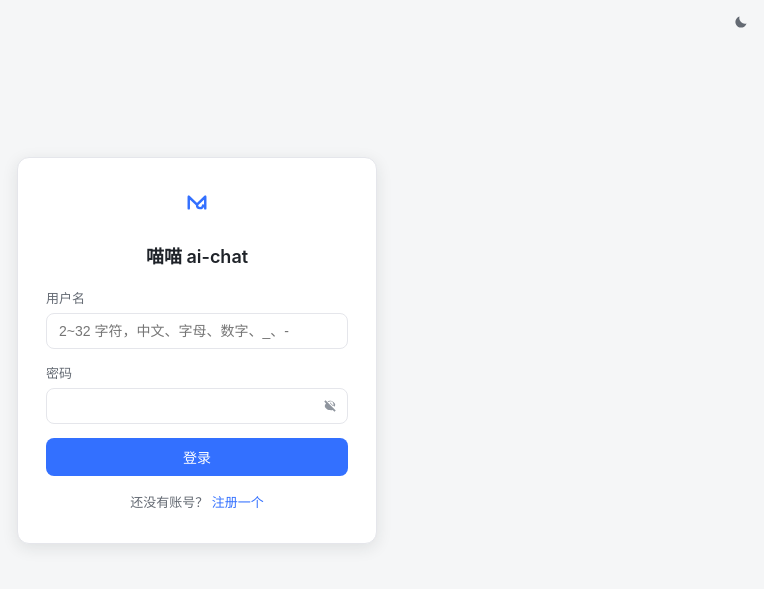
登录模式 › 封禁：403 琥珀提示
Type "alice" into the field labelled "用户名" at (197, 330), box [46,312,348,348]
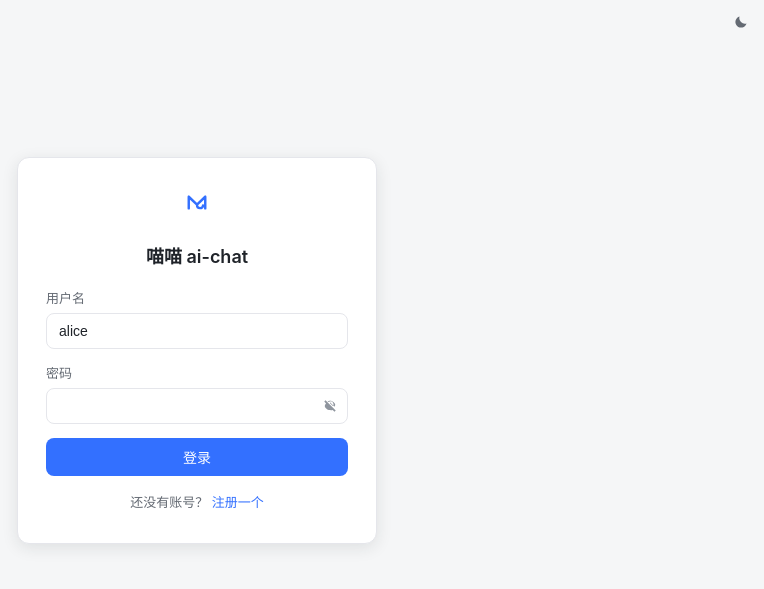
Type "password123" into the password field labelled "密码" at (197, 406), box [46,388,348,424]
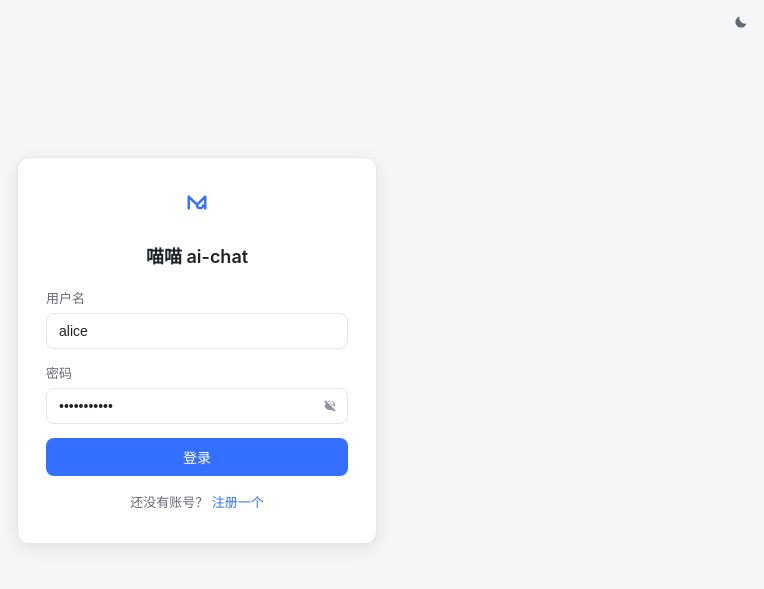
Submit the form, box [46,288,348,476]
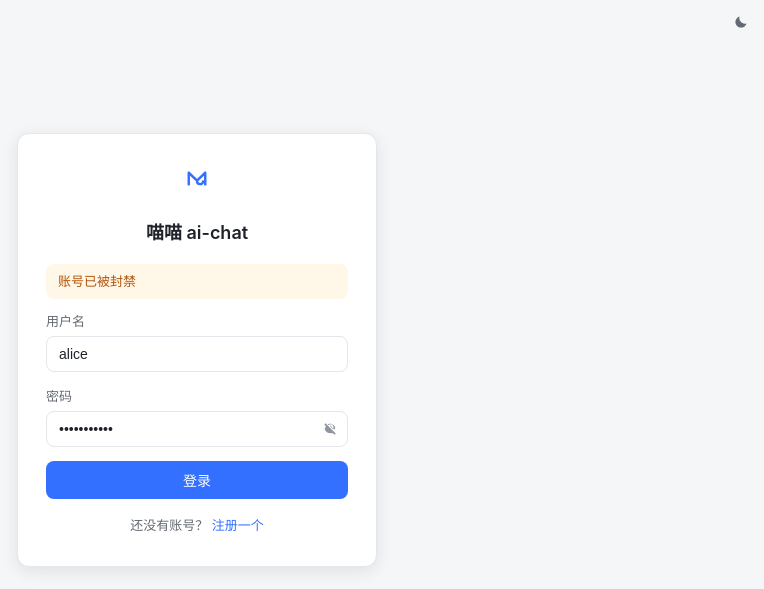
Result: the message with class "form-banner" reads "账号已被封禁" at [58,273,136,289]
